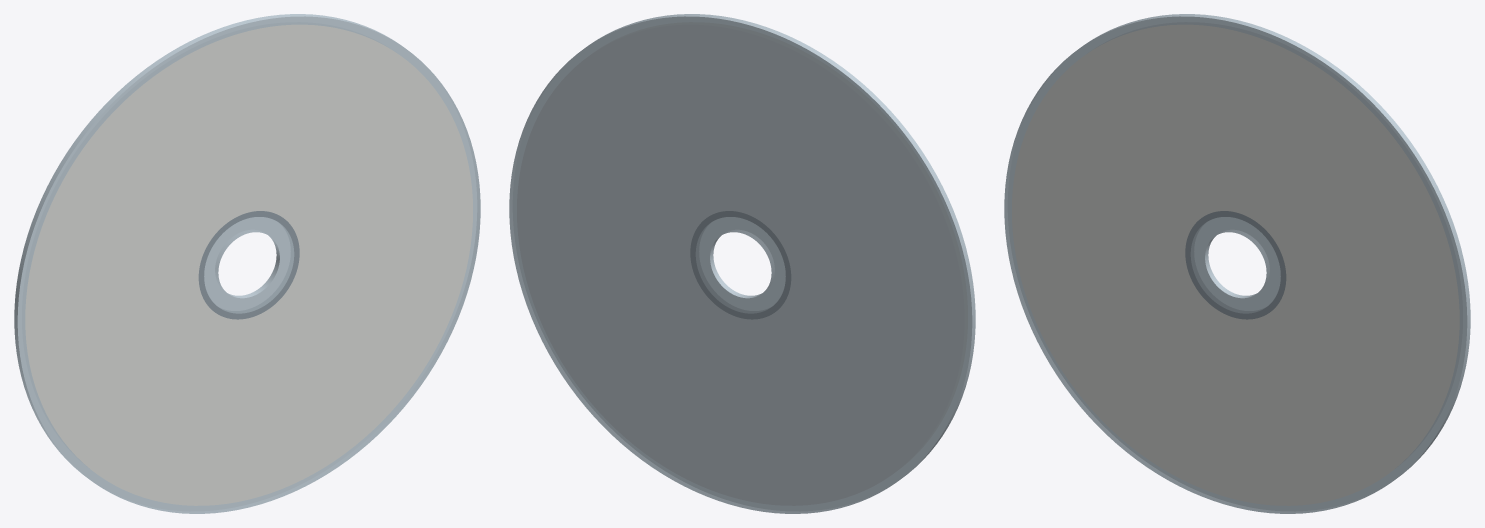
Rendered from gamecube-media.glb.
The picture shows the model from 3 angles, left to right: view 1: azimuth 30°, elevation 25°; view 2: azimuth 150°, elevation 25°; view 3: azimuth 330°, elevation 25°; orthographic projection.
Visible parts, largest first — view 1: Optical disc single closed surface; view 2: Optical disc single closed surface; view 3: Optical disc single closed surface.
Boxes of the visible parts, left/top/right/bottom form: Optical disc single closed surface: left=14, top=14, right=480, bottom=513; Optical disc single closed surface: left=509, top=14, right=975, bottom=513; Optical disc single closed surface: left=1004, top=14, right=1470, bottom=513.
Size of the model in its own units: 1.1 by 1.1 by 0.014.
